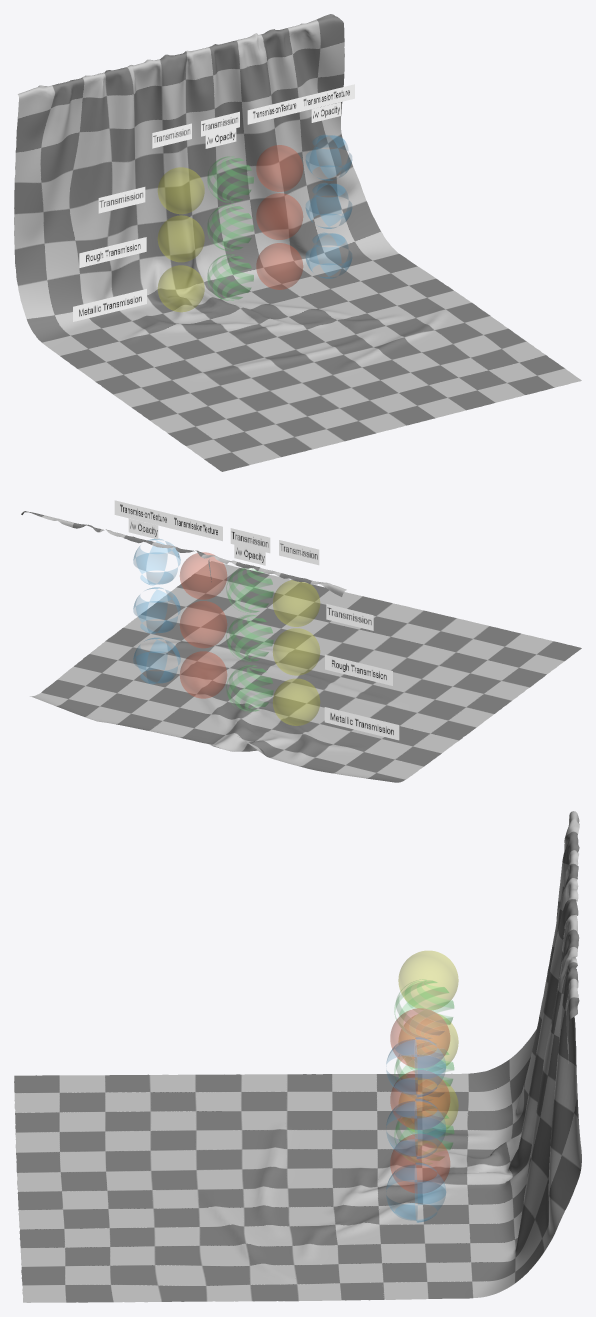
File: TransmissionTest.gltf
The picture shows the model from 3 angles, top to bottom: view 1: azimuth 30°, elevation 25°; view 2: azimuth 150°, elevation 25°; view 3: azimuth 270°, elevation 25°; orthographic projection. The views are drawn at different scales.
Visible parts, largest first — view 1: Cloth Backdrop 01, BlueTransWithMask (×3), X2_Label_Transmission (×3), RedTransTextureRough, RedTransTextureMetal, RedTransTexture, YellowTransMetal, YellowTrans, YellowTransRough, Y3_Label_TransmissionTexture (×2), GreenMaskMetal, GreenMask (+3 smaller); view 2: Cloth Backdrop 01, BlueTransWithMask (×3), X2_Label_Transmission (×3), RedTransTextureRough, YellowTransRough, RedTransTextureMetal, YellowTransMetal, YellowTrans, RedTransTexture, Y3_Label_TransmissionTexture (×2), GreenMaskRough, GreenMaskMetal (+4 smaller); view 3: Cloth Backdrop 01, BlueTransWithMask (×3), RedTransTexture, RedTransTextureRough, RedTransTextureMetal, YellowTrans, GreenMask, YellowTransMetal, YellowTransRough, GreenMaskMetal, GreenMaskRough.
Part boxes in pixels (x1=…): Cloth Backdrop 01: x1=14, y1=14, x2=581, y2=471; BlueTransWithMask (×3): x1=306, y1=135, x2=351, y2=278; X2_Label_Transmission (×3): x1=98, y1=111, x2=239, y2=213; RedTransTextureRough: x1=256, y1=193, x2=302, y2=239; RedTransTextureMetal: x1=256, y1=243, x2=302, y2=289; RedTransTexture: x1=256, y1=145, x2=302, y2=191; YellowTransMetal: x1=158, y1=265, x2=204, y2=311; YellowTrans: x1=158, y1=167, x2=204, y2=213; YellowTransRough: x1=158, y1=215, x2=204, y2=261; Y3_Label_TransmissionTexture (×2): x1=247, y1=84, x2=354, y2=124; GreenMaskMetal: x1=207, y1=254, x2=253, y2=300; GreenMask: x1=207, y1=156, x2=253, y2=202; Cloth Backdrop 01: x1=21, y1=511, x2=581, y2=782; BlueTransWithMask (×3): x1=133, y1=539, x2=180, y2=684; X2_Label_Transmission (×3): x1=230, y1=528, x2=373, y2=630; RedTransTextureRough: x1=180, y1=601, x2=226, y2=647; YellowTransRough: x1=273, y1=628, x2=319, y2=675; RedTransTextureMetal: x1=180, y1=651, x2=226, y2=698; YellowTransMetal: x1=273, y1=679, x2=319, y2=725; YellowTrans: x1=273, y1=580, x2=319, y2=626; RedTransTexture: x1=180, y1=552, x2=226, y2=599; Y3_Label_TransmissionTexture (×2): x1=114, y1=500, x2=222, y2=541; GreenMaskRough: x1=226, y1=615, x2=273, y2=661; GreenMaskMetal: x1=226, y1=665, x2=273, y2=711; Cloth Backdrop 01: x1=14, y1=811, x2=581, y2=1302; BlueTransWithMask (×3): x1=386, y1=1037, x2=445, y2=1222; RedTransTexture: x1=390, y1=1008, x2=449, y2=1067; RedTransTextureRough: x1=390, y1=1070, x2=449, y2=1129; RedTransTextureMetal: x1=390, y1=1134, x2=449, y2=1193; YellowTrans: x1=398, y1=951, x2=458, y2=1009; GreenMask: x1=394, y1=979, x2=453, y2=1038; YellowTransMetal: x1=399, y1=1080, x2=458, y2=1133; YellowTransRough: x1=398, y1=1014, x2=458, y2=1069; GreenMaskMetal: x1=394, y1=1106, x2=453, y2=1164; GreenMaskRough: x1=394, y1=1042, x2=453, y2=1100.
Size of the model in its own units: 1.8 by 1.02 by 1.89.
Materials: 14 (8 with a texture image).
